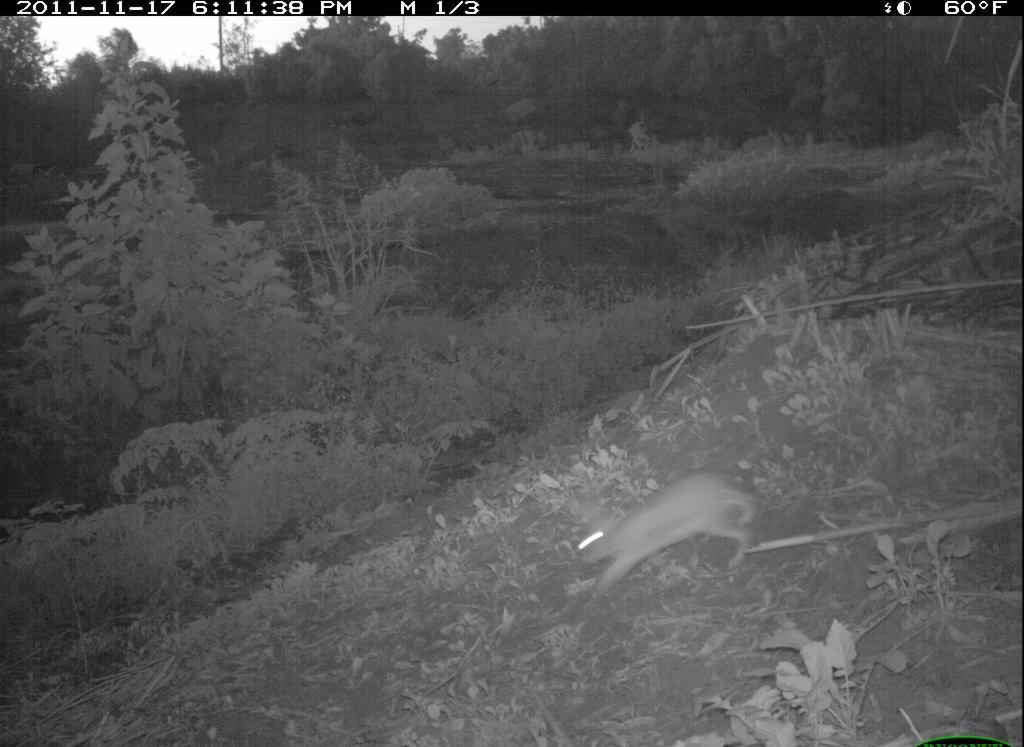rabbit: (545, 465, 760, 606)
